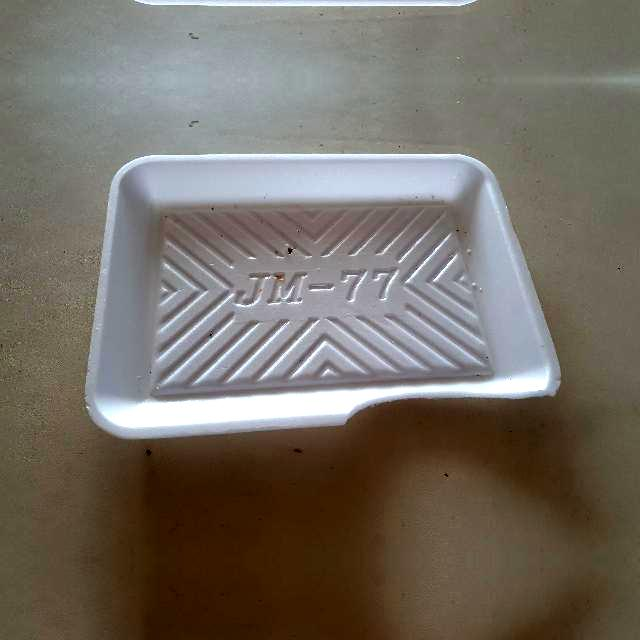Styrofoam: (81, 151, 563, 439), (85, 154, 561, 438)
